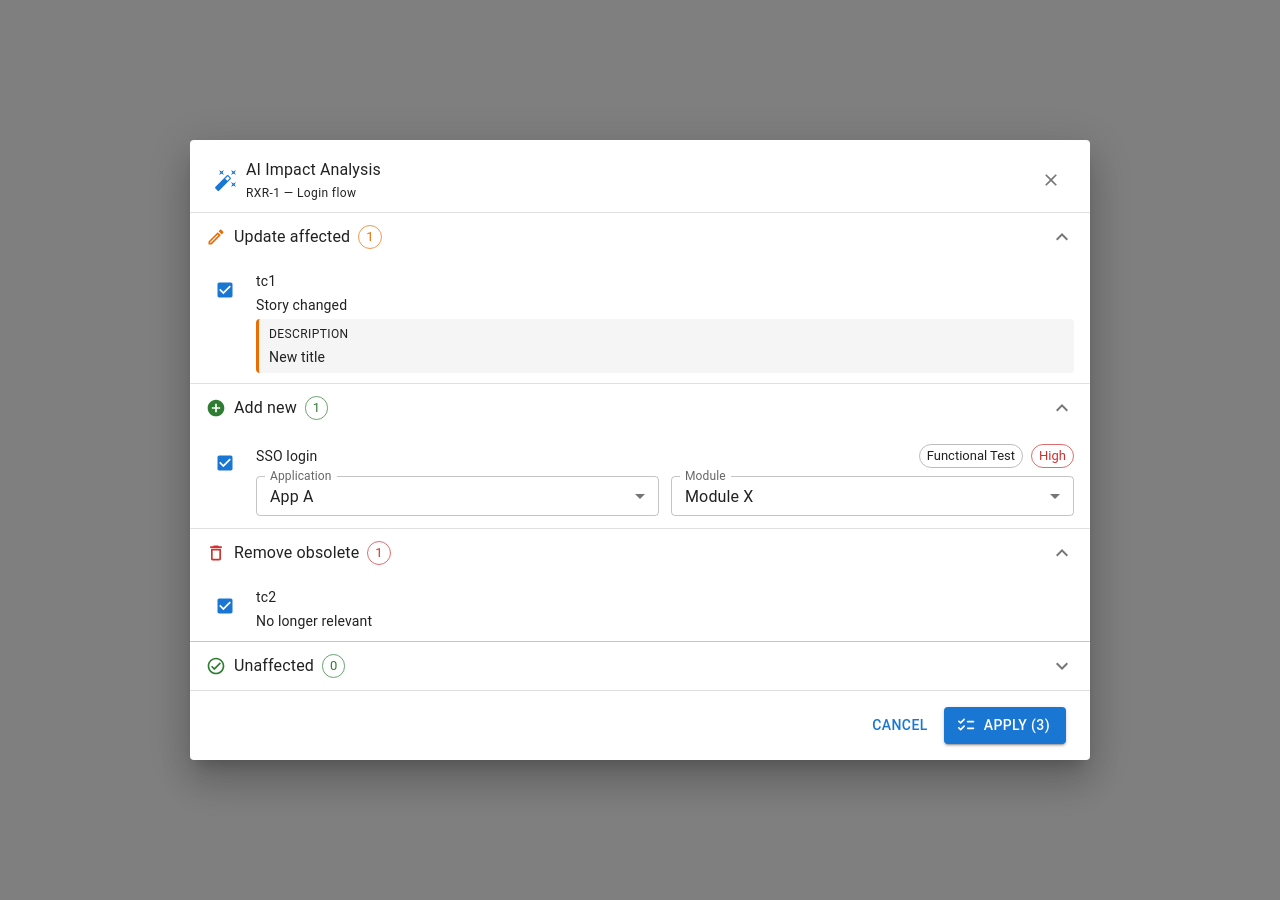
Test case: JiraImpactAnalysisDialog › shows a success summary listing what changed after Apply succeeds
expect the text "Update affected" is shown: met, box x1=234 y1=225 x2=350 y2=249
Click the button "Apply (3)".
click(1005, 725)  # box x1=944 y1=707 x2=1066 y2=744
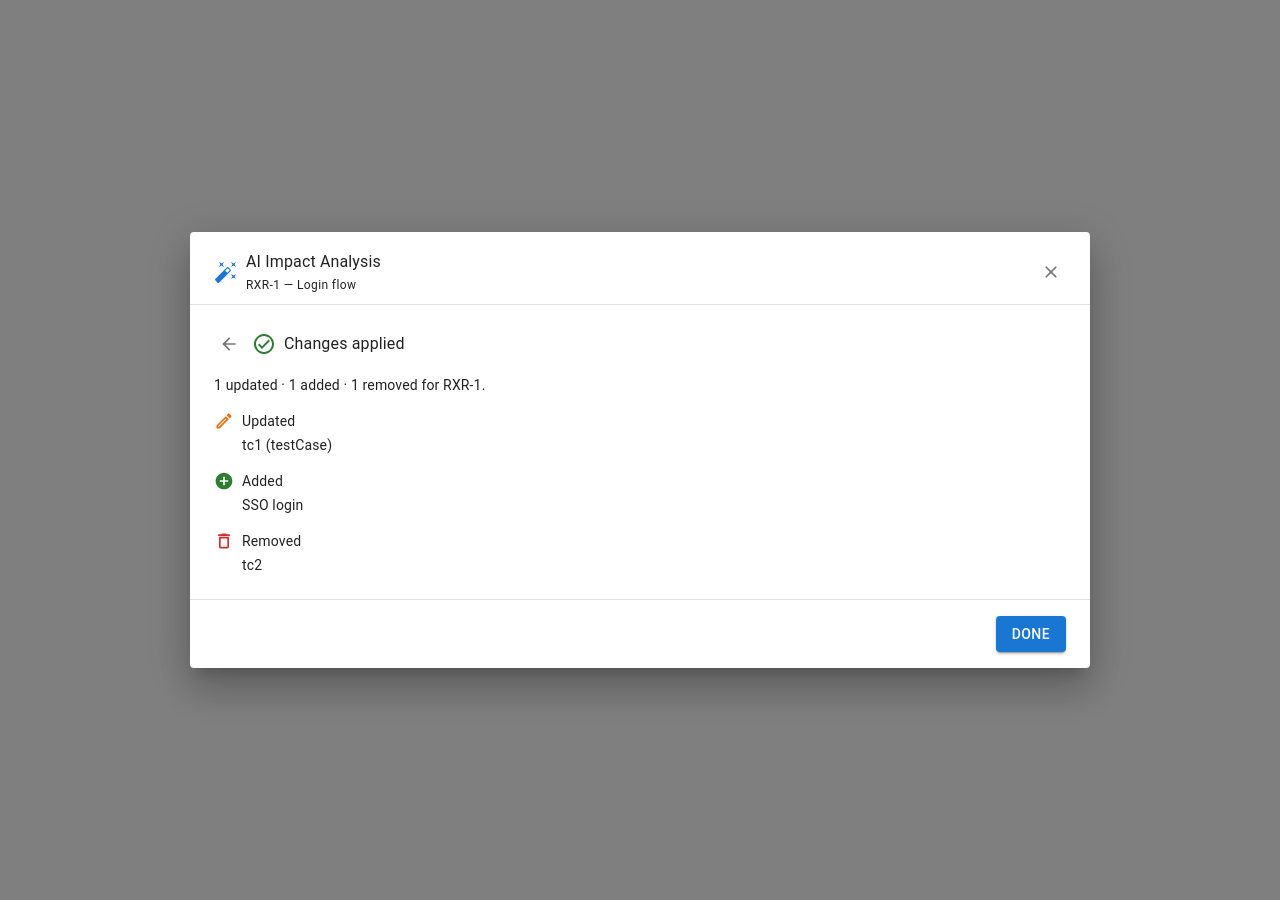
expect the heading "Changes applied" is shown: met, box x1=284 y1=330 x2=405 y2=358
expect the text "1 updated · 1 added · 1 removed for RXR-1." is shown: met, box x1=214 y1=377 x2=486 y2=393
expect the text "tc1 (testCase)" is shown: met, box x1=242 y1=437 x2=332 y2=453
